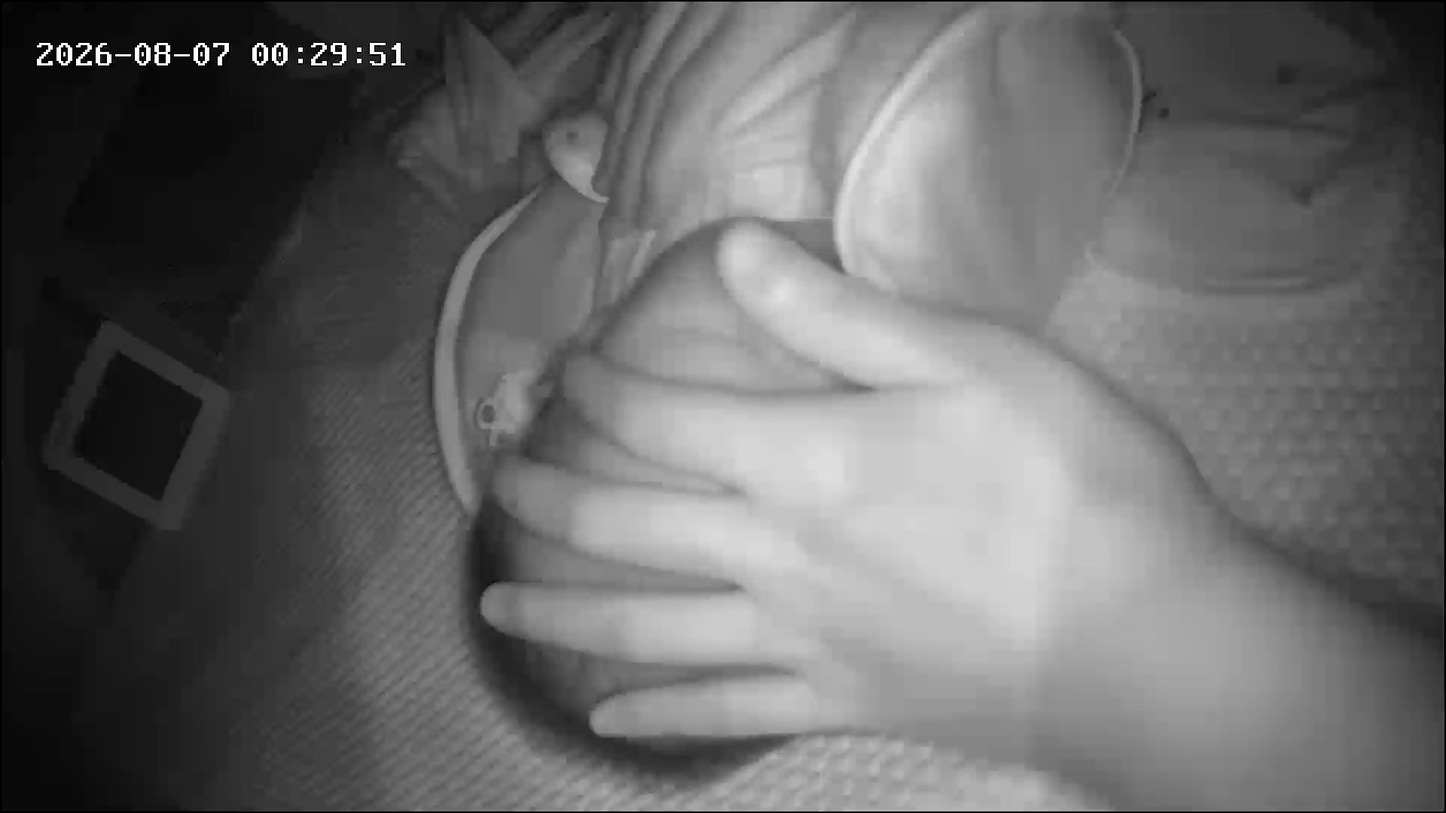baby: (423, 4, 1294, 806)
